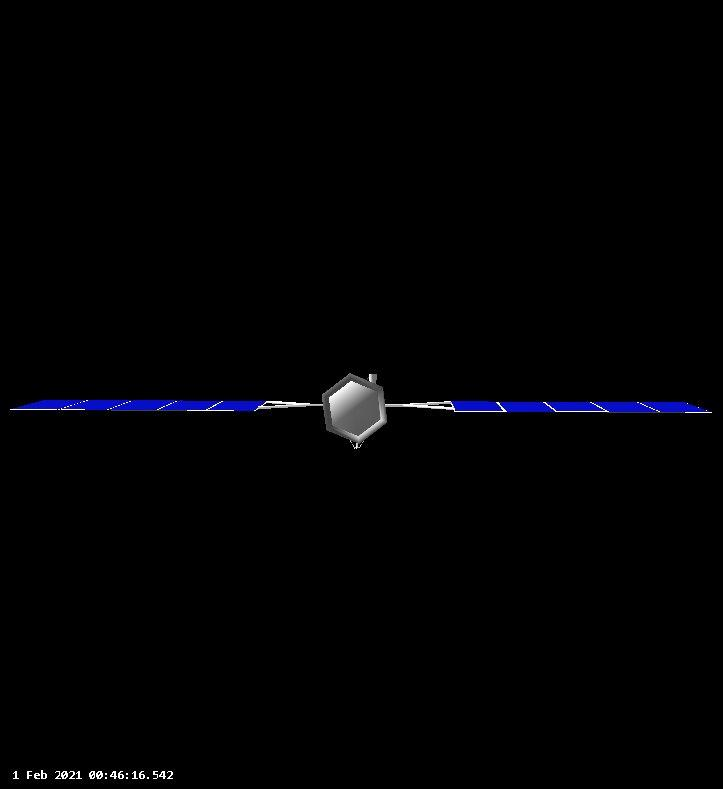antenna: (344, 438, 368, 451)
body: (322, 369, 389, 445)
solar: (384, 394, 716, 419), (5, 398, 331, 416)
